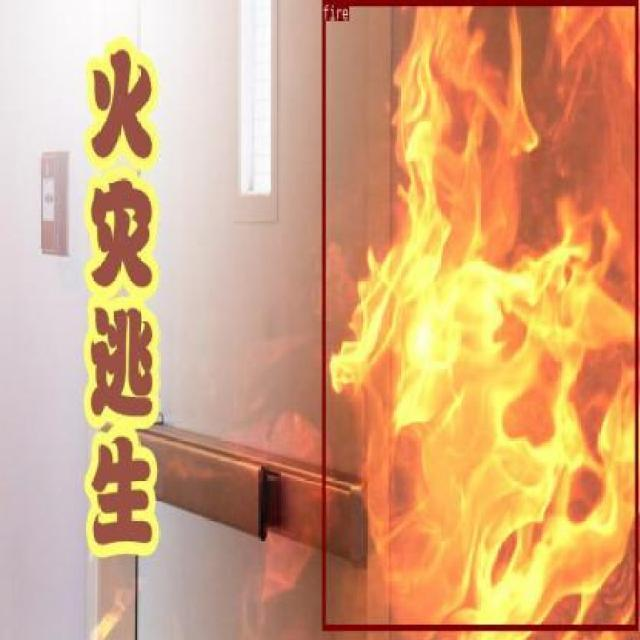Fire: (321, 0, 637, 629)
